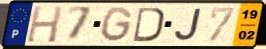7: (66, 5, 93, 43), (209, 6, 236, 43)
D: (131, 6, 165, 43)
G: (100, 5, 135, 43)
H: (25, 5, 65, 44)
J: (173, 7, 204, 42)
